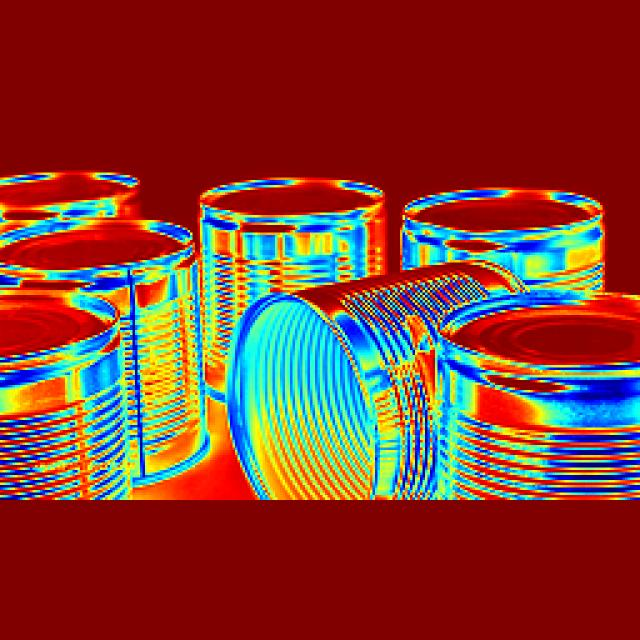Aluminium Food Cans: (2, 218, 220, 488), (243, 283, 481, 507), (438, 319, 640, 525), (194, 170, 388, 338), (414, 180, 614, 313)
